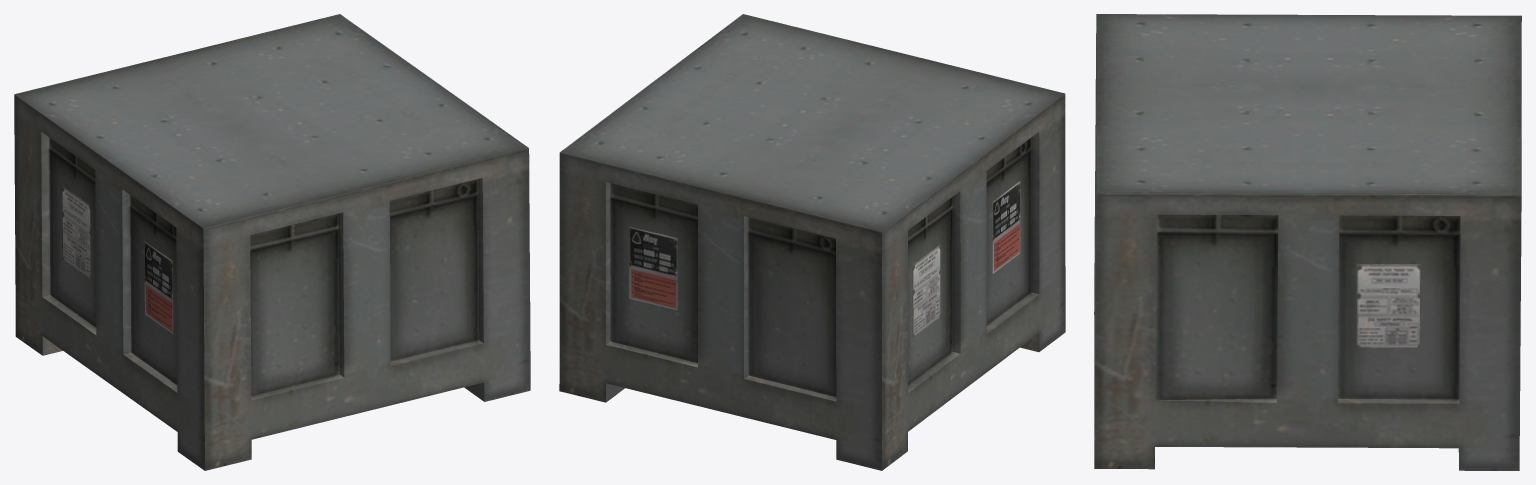
3 views of the same model, side by side, from view 1: azimuth 30°, elevation 25°; view 2: azimuth 150°, elevation 25°; view 3: azimuth 270°, elevation 25° (orthographic). The views are drawn at different scales.
Visible parts, largest first — view 1: DrawCall02; view 2: DrawCall02; view 3: DrawCall02.
Boxes of the visible parts, x1,y1,x2,y2 form: DrawCall02: (14,14,530,470); DrawCall02: (559,14,1065,470); DrawCall02: (1094,14,1521,470).
Bounding box in the file's own units: 12.36 × 8.83 × 12.27.
Materials: 1 (1 with a texture image).
